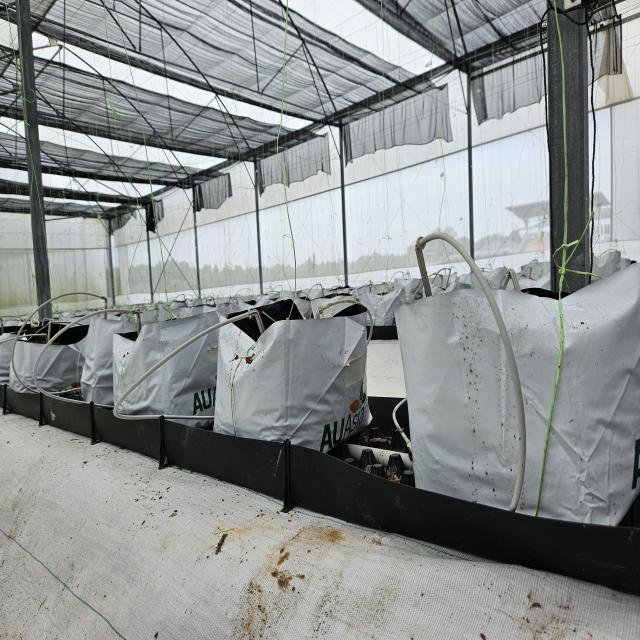Obstacle: (412, 230, 528, 518)
Soilbag: (393, 257, 639, 526), (216, 297, 373, 454)
